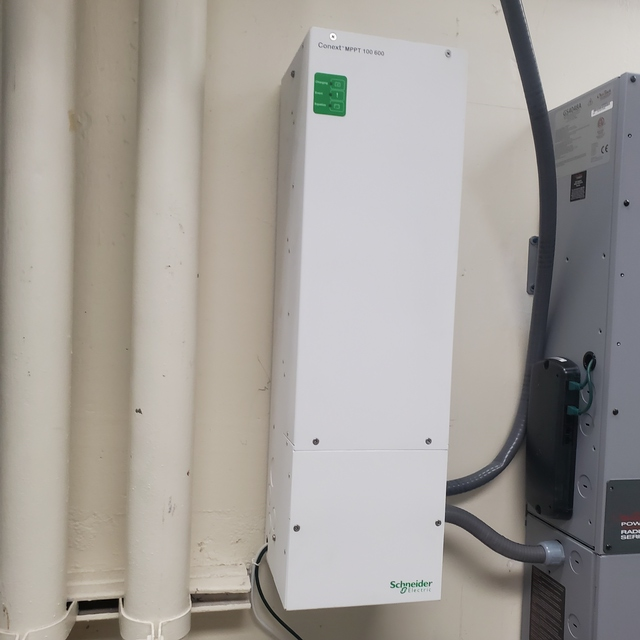charge_controller: (265, 22, 469, 612)
